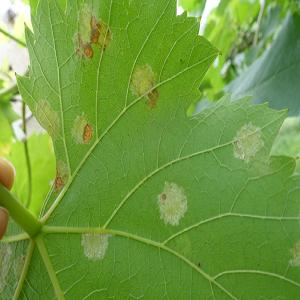Folha: (1, 0, 298, 298)
Fungo: (157, 180, 187, 226), (232, 120, 264, 163), (73, 15, 101, 60), (32, 98, 62, 139), (129, 62, 155, 98), (80, 231, 110, 262), (0, 236, 14, 293), (71, 111, 93, 145), (14, 251, 27, 293), (54, 159, 68, 192), (288, 234, 300, 270), (89, 15, 101, 44), (144, 87, 158, 109), (78, 38, 93, 58), (82, 123, 92, 143), (90, 27, 100, 44), (83, 44, 93, 58)
